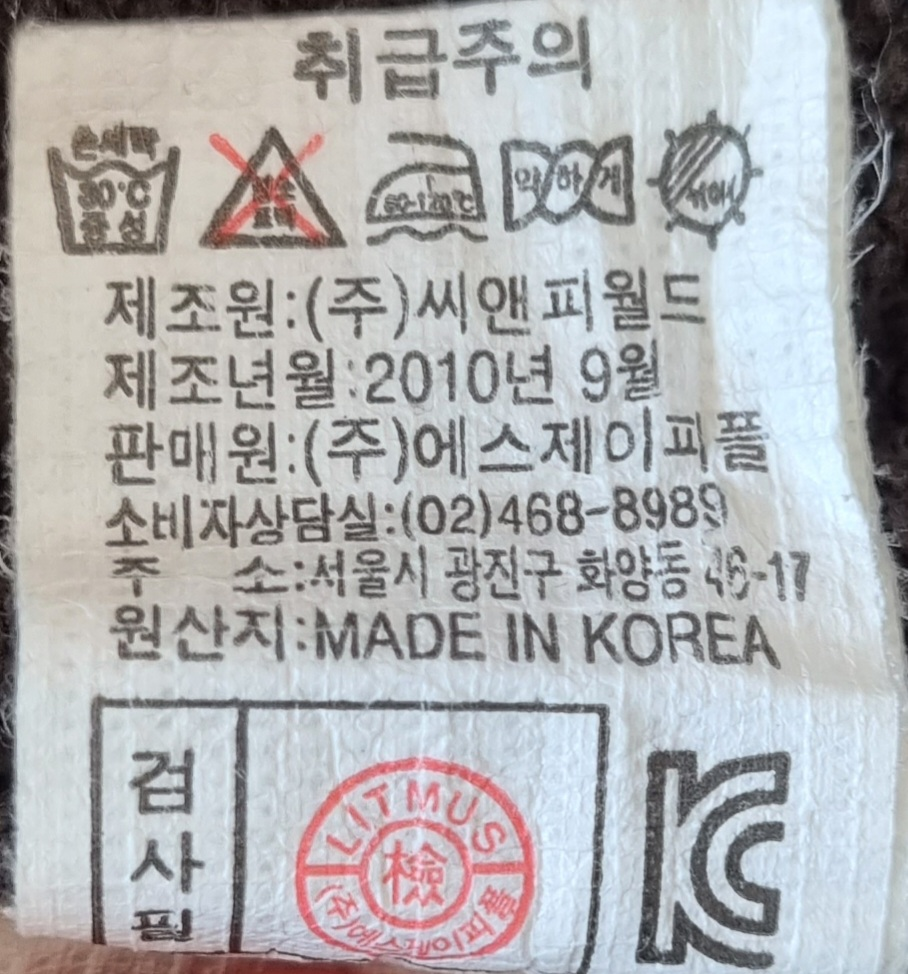KR_flat_dry_in_shade: (645, 109, 770, 255)
KR_gentle_wring: (494, 124, 650, 250)
KR_hand_wash_30_neutral: (37, 110, 195, 279)
KR_iron_low_temp_with_cloth: (362, 113, 496, 249)
KR_no_chlorine_bleach: (190, 111, 354, 266)
